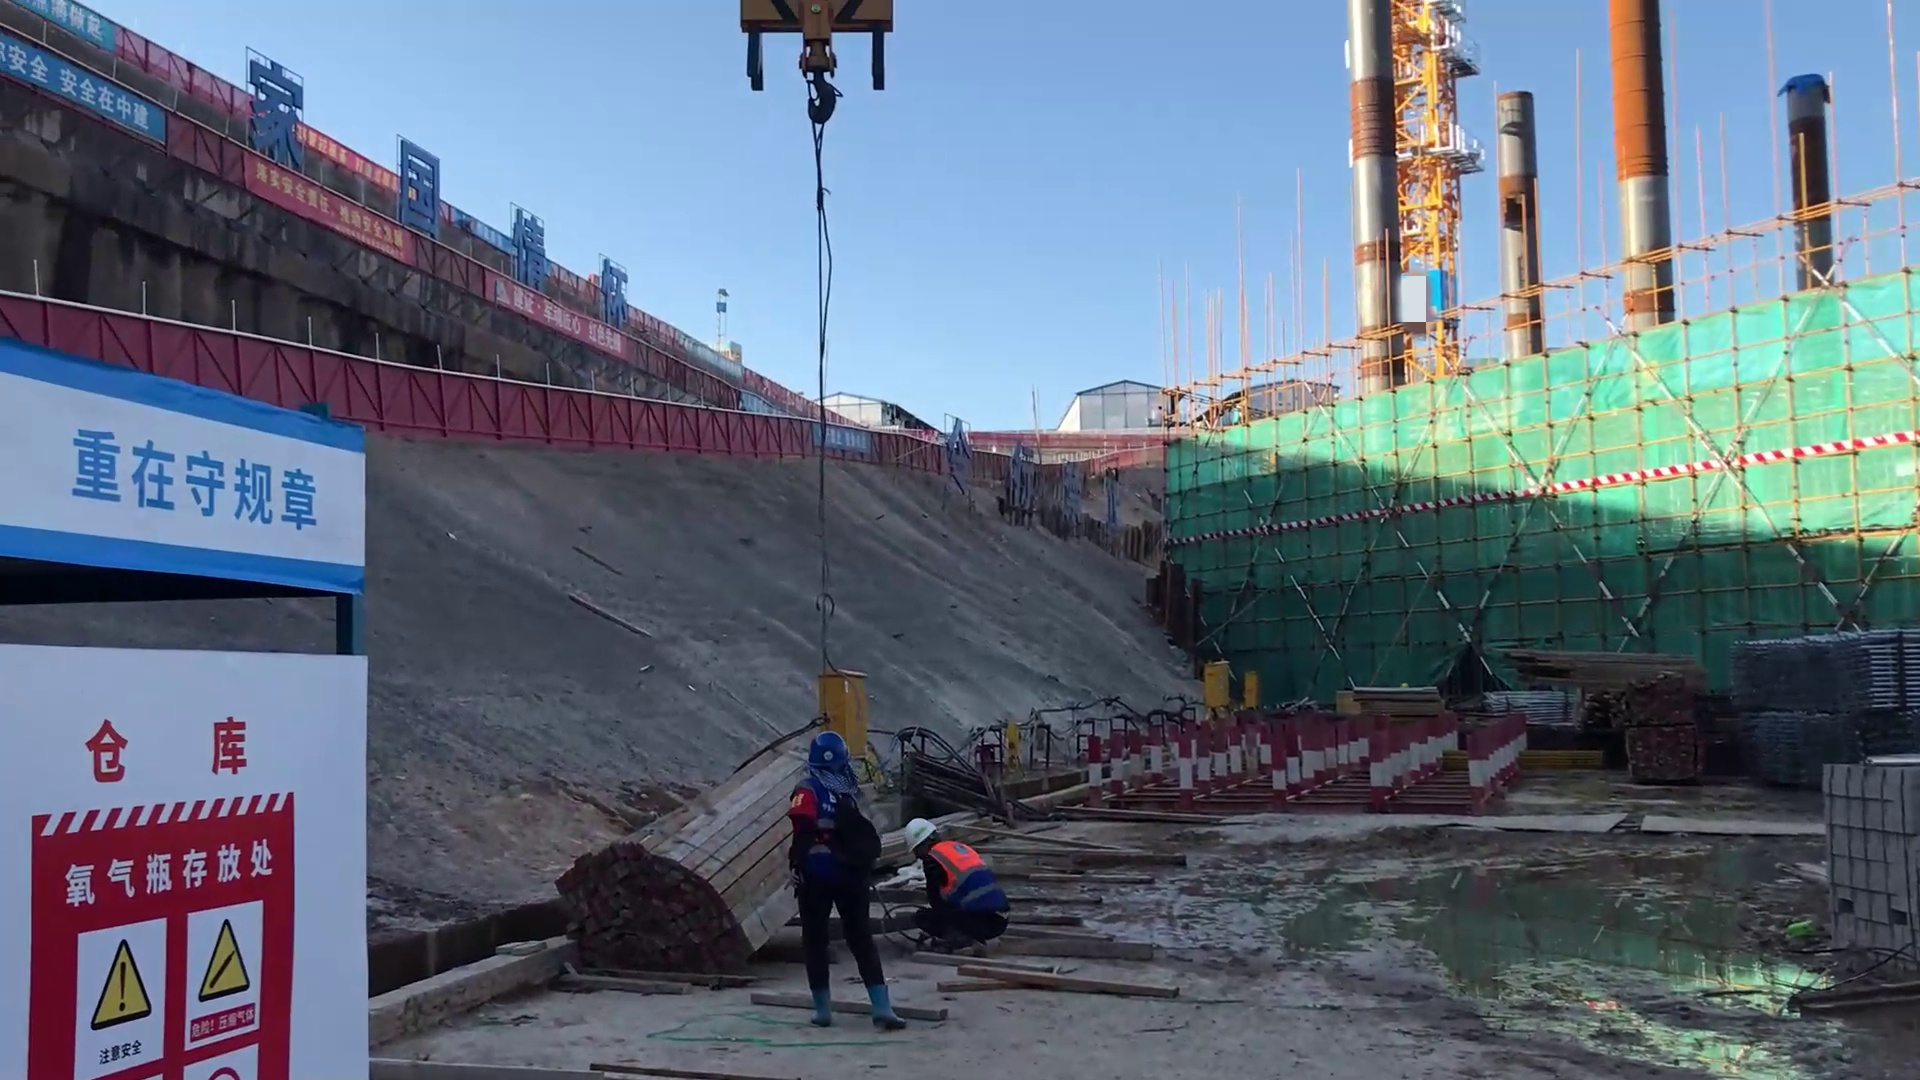brick: (1819, 744, 1920, 995)
ebox: (817, 650, 881, 760), (1195, 657, 1224, 705), (1236, 670, 1258, 710)
fence: (352, 360, 733, 461), (733, 412, 818, 464)
helmet: (791, 735, 849, 792), (892, 816, 949, 859)
hook: (733, 1, 897, 87)
person: (769, 728, 916, 1044), (894, 805, 1019, 959)
scaffold: (1732, 623, 1897, 709)
slogan: (38, 805, 322, 1080), (56, 399, 333, 519), (1, 63, 185, 163), (228, 165, 381, 276)
vest: (933, 840, 983, 885)
wood: (548, 782, 764, 970), (1491, 637, 1716, 708)
